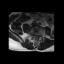CCS_normal: (36, 34, 37, 40)
LFS_severe_stenosis: (39, 33, 40, 37)
LLS_severe_stenosis: (37, 34, 39, 38)
RFS_severe_stenosis: (33, 33, 35, 37)
RLS_severe_stenosis: (35, 33, 36, 38)
